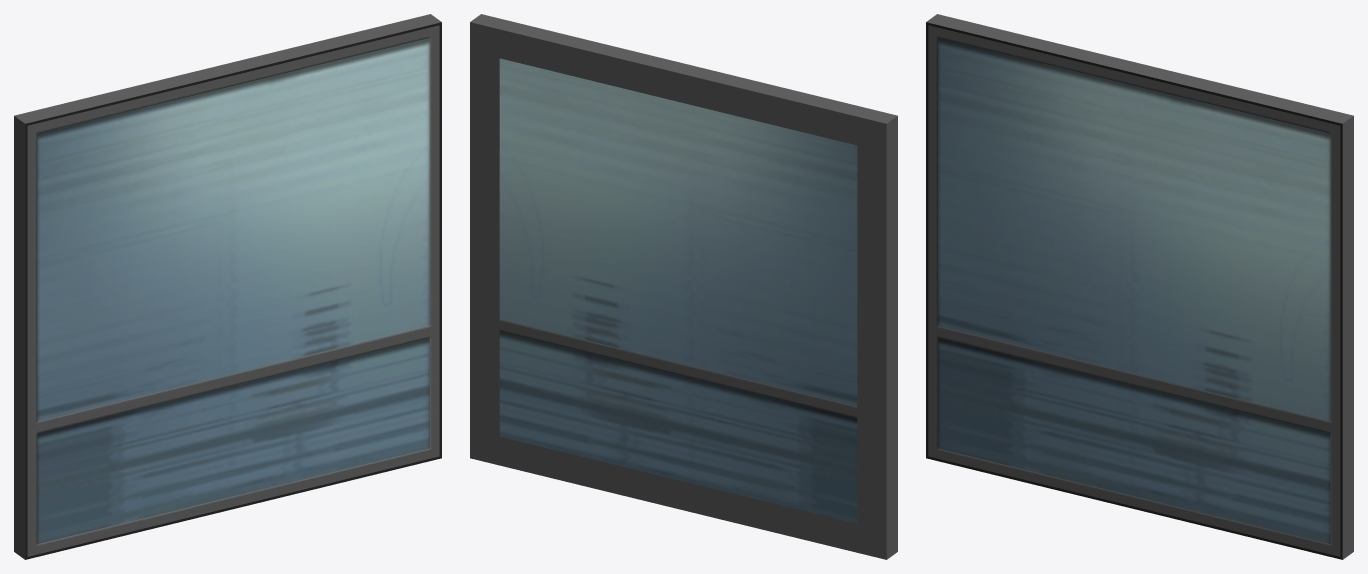
Rendered from obroom2.obj.
3 renders of one model, left to right at view 1: azimuth 30°, elevation 25°; view 2: azimuth 150°, elevation 25°; view 3: azimuth 330°, elevation 25°, orthographic.
Parts seen in each view (by area): view 1: obroom2; view 2: obroom2; view 3: obroom2.
Part boxes in pixels (left/top/right/bottom): obroom2: left=14, top=14, right=441, bottom=559; obroom2: left=470, top=14, right=897, bottom=559; obroom2: left=926, top=14, right=1353, bottom=559.
Bounding box in the file's own units: 2 × 2 × 0.0929.
